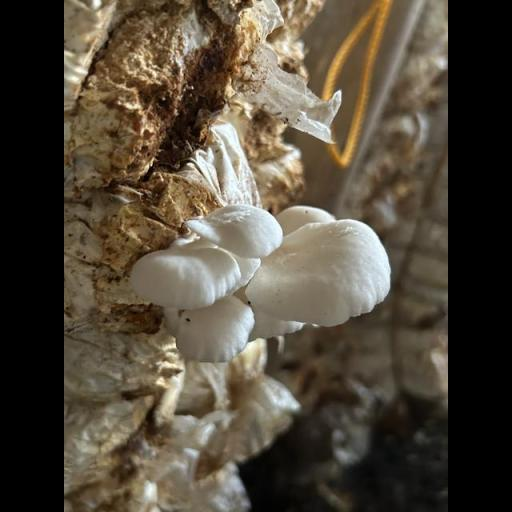White Oyster Mushroom: (135, 201, 389, 359)
